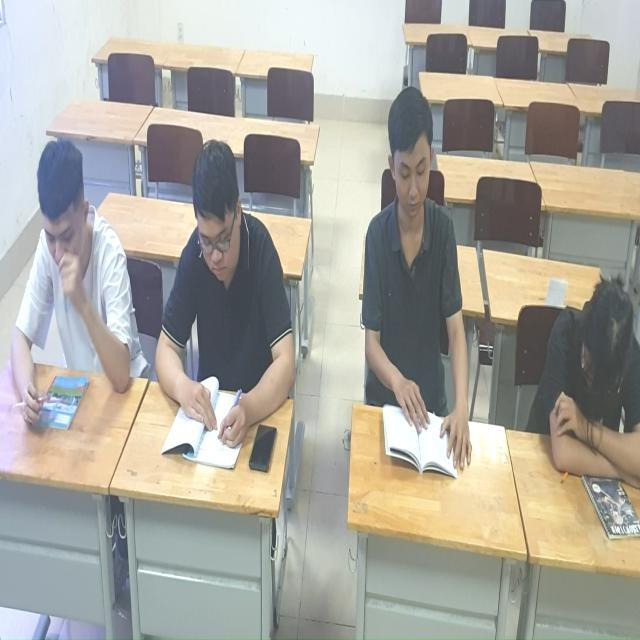raise_hand: (2, 120, 143, 434)
read: (353, 68, 475, 471), (151, 140, 297, 467)
sleep: (541, 285, 640, 514)
